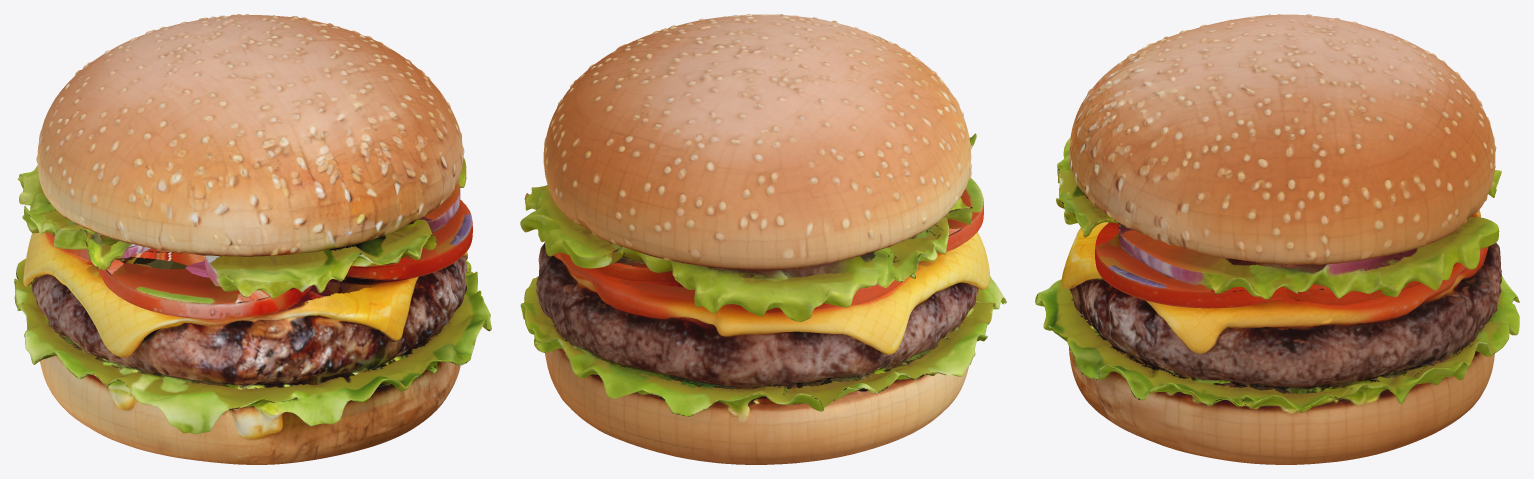
Rendered from base_basic_shaded.glb.
The picture shows the model from 3 angles, left to right: view 1: azimuth 30°, elevation 25°; view 2: azimuth 150°, elevation 25°; view 3: azimuth 270°, elevation 25°; orthographic projection.
Visible parts, largest first — view 1: model; view 2: model; view 3: model.
Part boxes in pixels (x1,y1,x2,y2): model: (14, 14, 491, 464); model: (520, 14, 1006, 464); model: (1035, 14, 1519, 464).
Size of the model in its own units: 1.9 by 1.48 by 1.9.
Materials: 1 (1 with a texture image).
